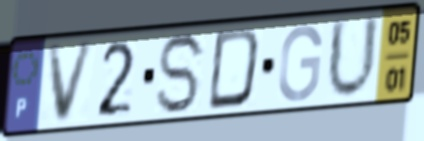2: (96, 38, 137, 119)
D: (204, 25, 264, 113)
G: (275, 22, 325, 105)
S: (154, 30, 209, 118)
U: (324, 12, 382, 104)
V: (46, 37, 99, 128)
